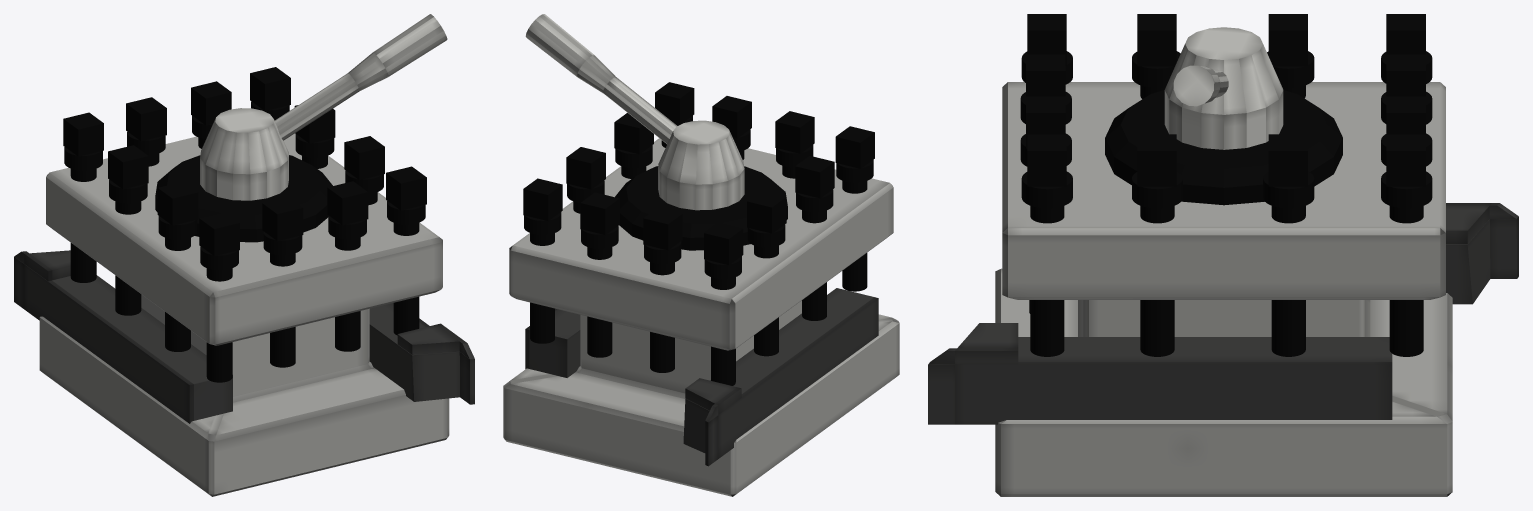
File: center_square table .fbx
The picture shows the model from 3 angles, left to right: view 1: azimuth 30°, elevation 25°; view 2: azimuth 150°, elevation 25°; view 3: azimuth 270°, elevation 25°; orthographic projection. The views are drawn at different scales.
Visible parts, largest first — view 1: 円.010, 立方体.009, 円.040, 立方体.008, 円.025, 円.028, 円.029, 円.030, 円.031, 円.032, 円.034, 円.033 (+5 smaller); view 2: 円.010, 立方体.009, 円.040, 円.025, 円.036, 円.037, 円.035, 円.034, 円.028, 円.033, 円.032, 立方体.008 (+5 smaller); view 3: 円.010, 立方体.008, 円.040, 円.025, 立方体.009, 円.031, 円.037, 円.038, 円.039, 円.032, 円.033, 円.029 (+5 smaller).
Boxes of the visible parts, left/top/right/bottom form: 円.010: left=39, top=133, right=449, bottom=496; 立方体.009: left=14, top=250, right=232, bottom=423; 円.040: left=200, top=14, right=447, bottom=200; 立方体.008: left=369, top=303, right=474, bottom=404; 円.025: left=155, top=155, right=332, bottom=242; 円.028: left=199, top=212, right=239, bottom=382; 円.029: left=262, top=197, right=303, bottom=367; 円.030: left=327, top=181, right=368, bottom=351; 円.031: left=386, top=166, right=426, bottom=335; 円.032: left=157, top=181, right=198, bottom=351; 円.034: left=63, top=112, right=103, bottom=282; 円.033: left=108, top=145, right=148, bottom=315; 円.010: left=503, top=138, right=899, bottom=496; 立方体.009: left=683, top=288, right=878, bottom=466; 円.040: left=525, top=14, right=744, bottom=210; 円.025: left=615, top=166, right=787, bottom=250; 円.036: left=580, top=192, right=619, bottom=357; 円.037: left=523, top=178, right=562, bottom=343; 円.035: left=643, top=207, right=682, bottom=372; 円.034: left=704, top=222, right=743, bottom=385; 円.028: left=835, top=126, right=874, bottom=291; 円.033: left=747, top=191, right=786, bottom=356; 円.032: left=795, top=155, right=834, bottom=320; 立方体.008: left=525, top=308, right=580, bottom=377; 円.010: left=995, top=82, right=1452, bottom=496; 立方体.008: left=928, top=323, right=1392, bottom=424; 円.040: left=1164, top=27, right=1283, bottom=149; 円.025: left=1105, top=90, right=1342, bottom=205; 立方体.009: left=1446, top=203, right=1518, bottom=304; 円.031: left=1021, top=134, right=1072, bottom=356; 円.037: left=1381, top=134, right=1432, bottom=356; 円.038: left=1263, top=134, right=1314, bottom=356; 円.039: left=1132, top=134, right=1182, bottom=356; 円.032: left=1132, top=14, right=1180, bottom=98; 円.033: left=1267, top=14, right=1314, bottom=98; 円.029: left=1020, top=54, right=1071, bottom=124.
Size of the model in its own units: 105 by 115 by 131.
